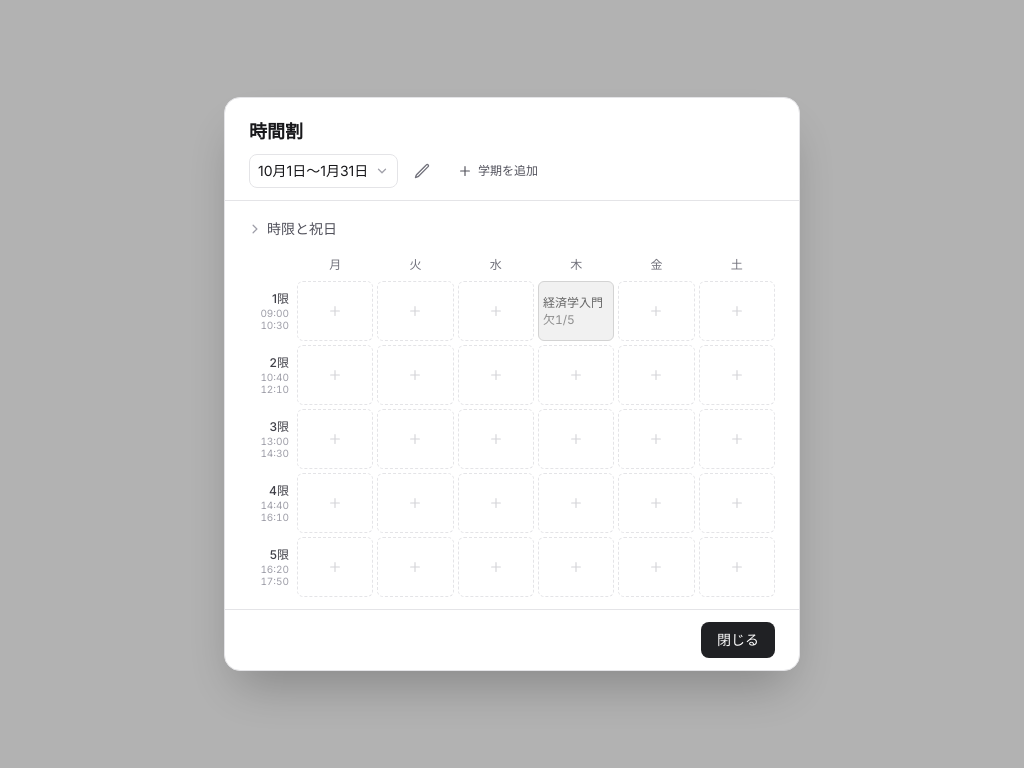
Scenario: 授業の欠席（#452） › マスに欠席の数が出て、授業の編集で休める回数を決められる。授業名を直すと欠席も移る
Click the button with aria-label "木曜 1限 経済学入門 欠席 1 / 5 回": (576, 311) [538,281,614,341]
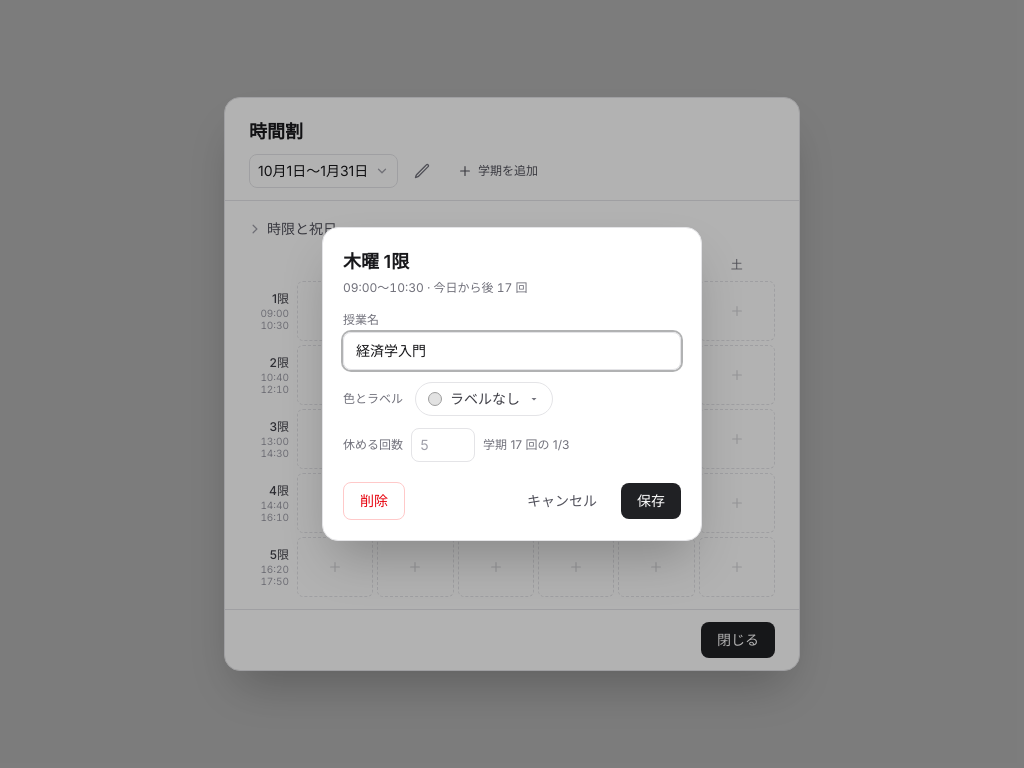
In the number field labelled "休める回数 学期 17 回の 1/3": (443, 445) [411,428,475,462], type "2"
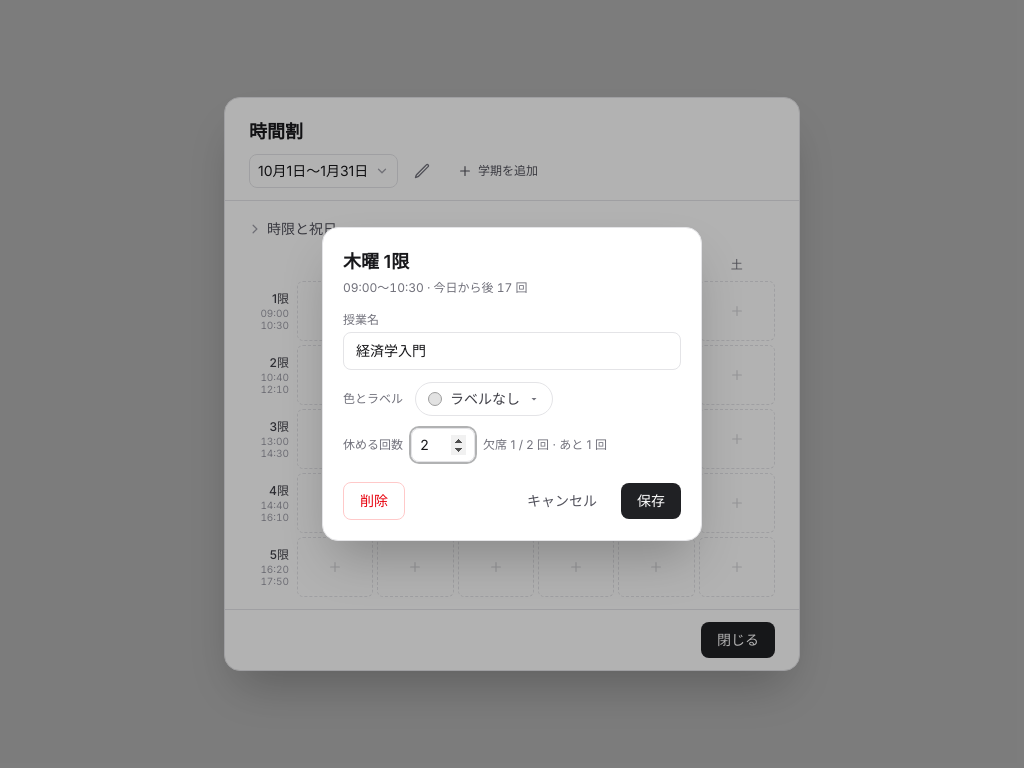
Check: the text "欠席 1 / 2 回 · あと 1 回" is shown, box [483,437,607,453]
Replace the text in the field labelled "授業名" with "ミクロ経済学": (512, 351) [343,332,681,370]
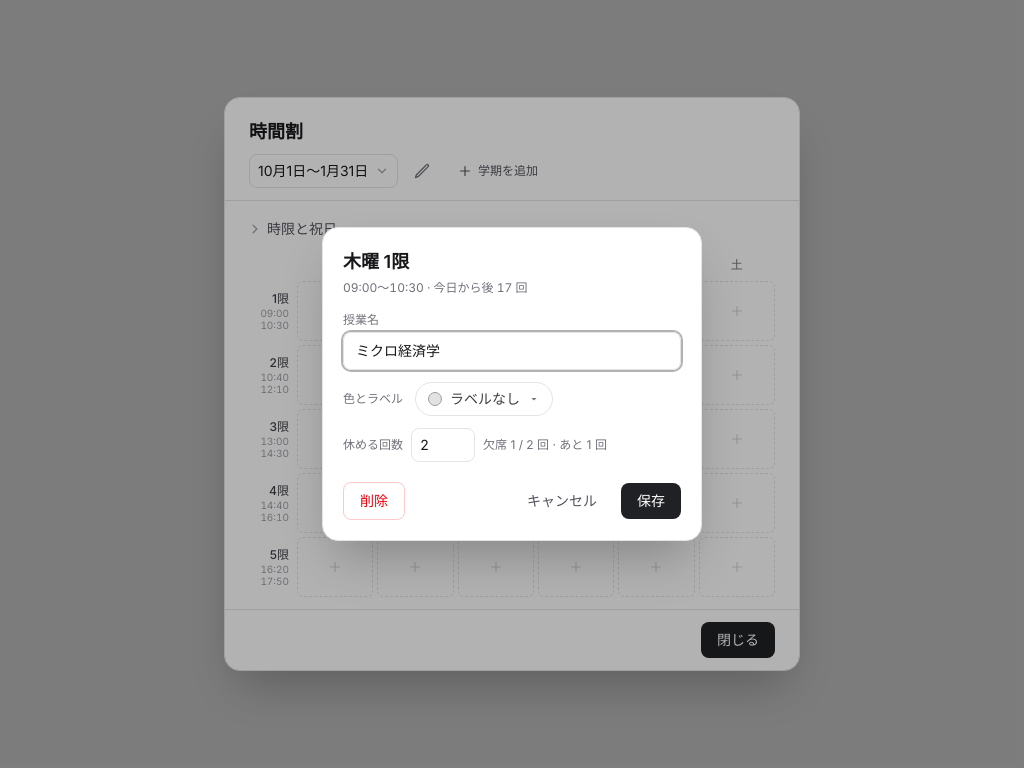
Click the button "保存": (651, 501) [621,483,681,519]
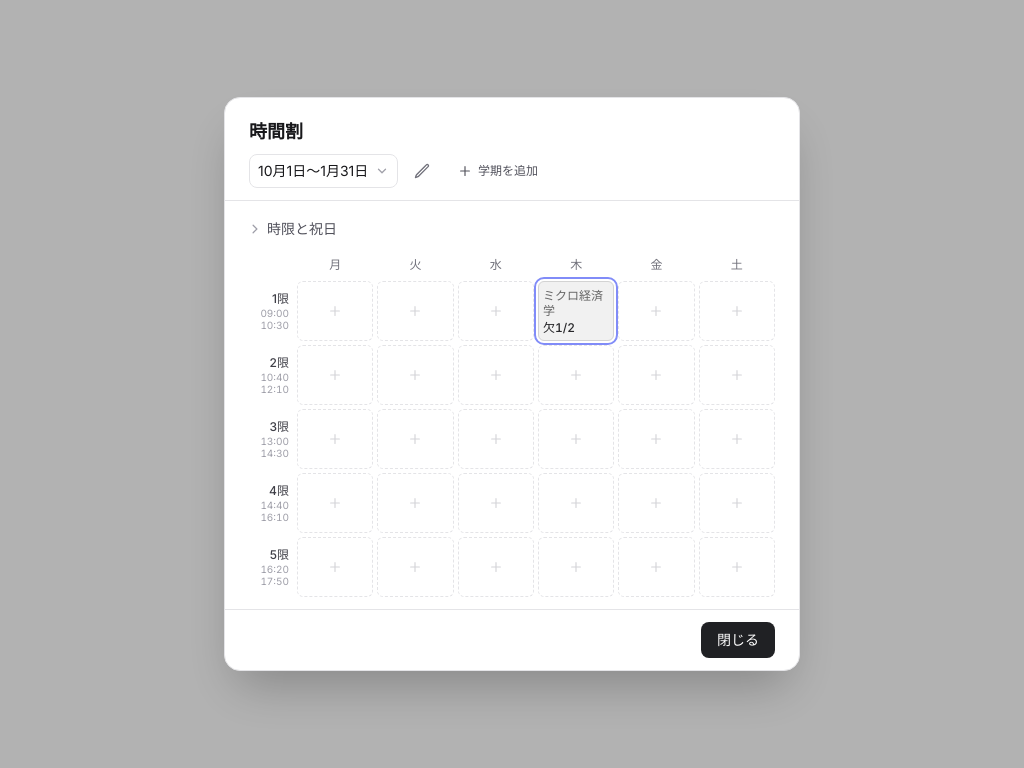
Check: the button with aria-label "木曜 1限 ミクロ経済学 欠席 1 / 2 回 · あと 1 回" is shown, box [538,281,614,341]
